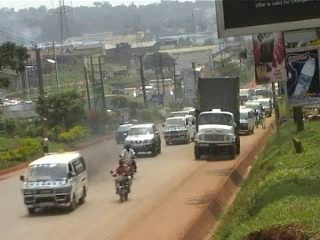Car: (121, 122, 163, 157), (112, 120, 137, 144)
Motorcycle: (105, 158, 135, 204), (117, 144, 139, 179)
